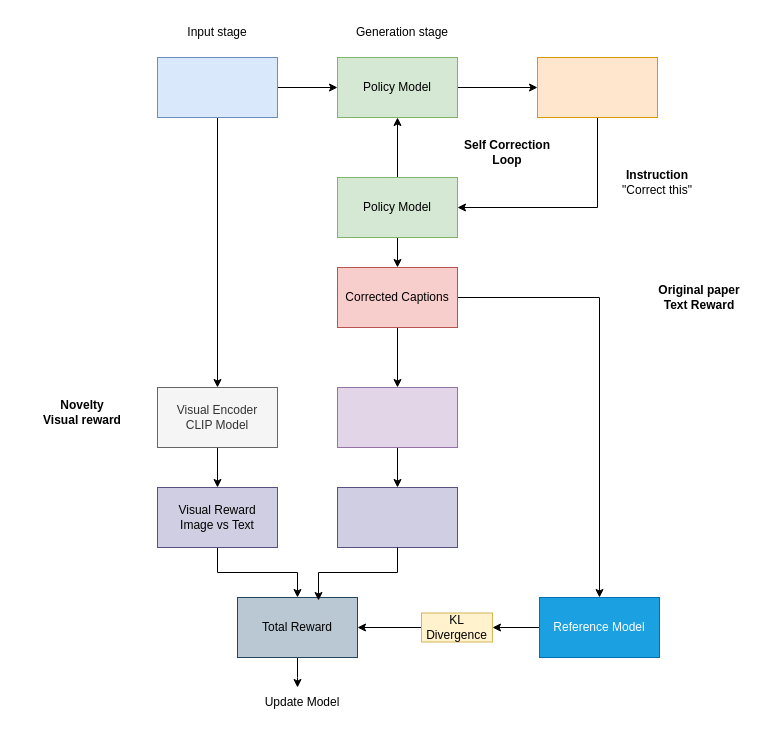
This 781x734 diagram has some shape labels left out. The shapes that lost their labels are listed below. From the top down, each one's centre as x and y in pixels, then its label:
At (217,87): "Input Image".
At (597,87): "Initial Caption".
At (397,417): "Scene Graph Parser".
At (397,517): "Text Reward GT vs Text".
